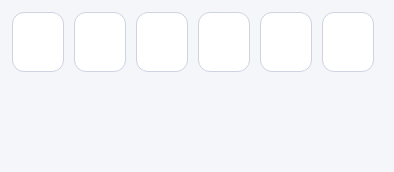
Scenario: CodeInput › fills every box from a pasted code and ignores non-digits
Click the field named "Digit 1 of 6": (38, 42) left=12, top=12, right=64, bottom=72
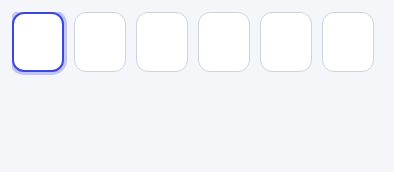
Type keys "482 913 77"
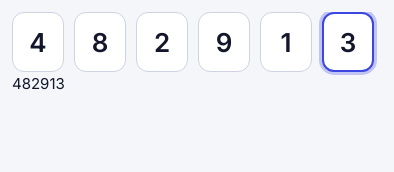
Check: the text with test id "value" reads "482913", box left=12, top=74, right=65, bottom=93
